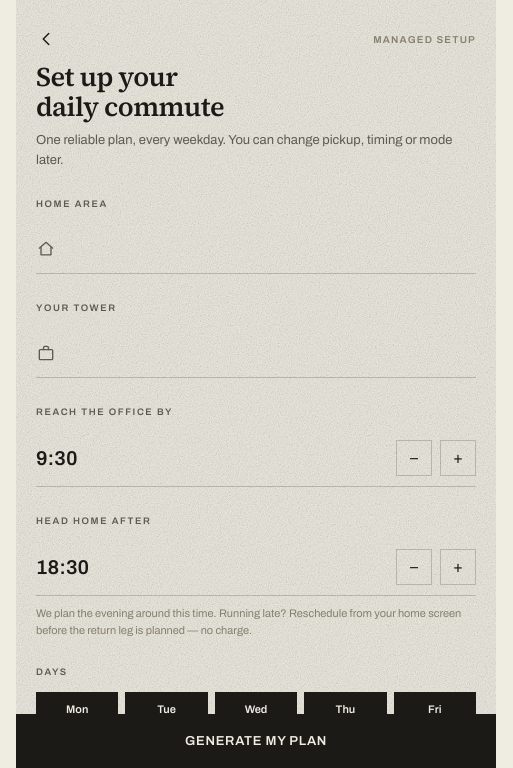
Test: 19 Managed setup › stepping arrival changes the displayed time
The width and height of the screenshot is (513, 768).
Expected: the text "9:30" is shown, [36,444,78,474]
Click the button named "Later arrival": (458, 458) [440,440,476,476]
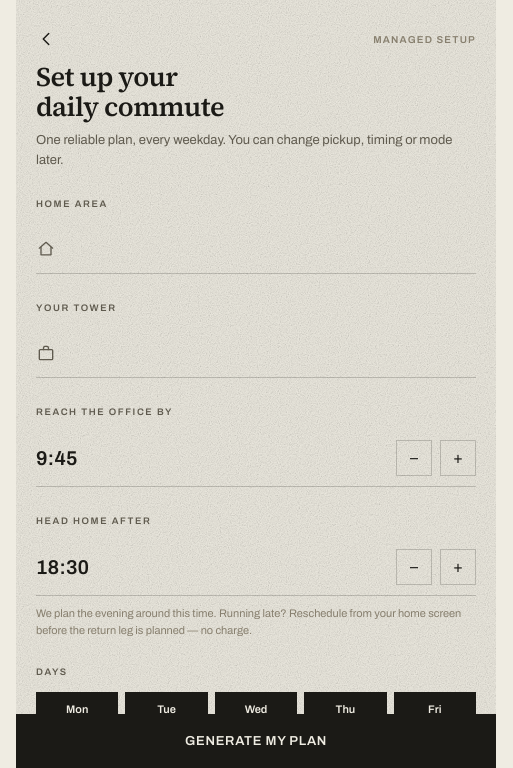
Expected: the text "9:45" is shown, [36,444,78,474]
